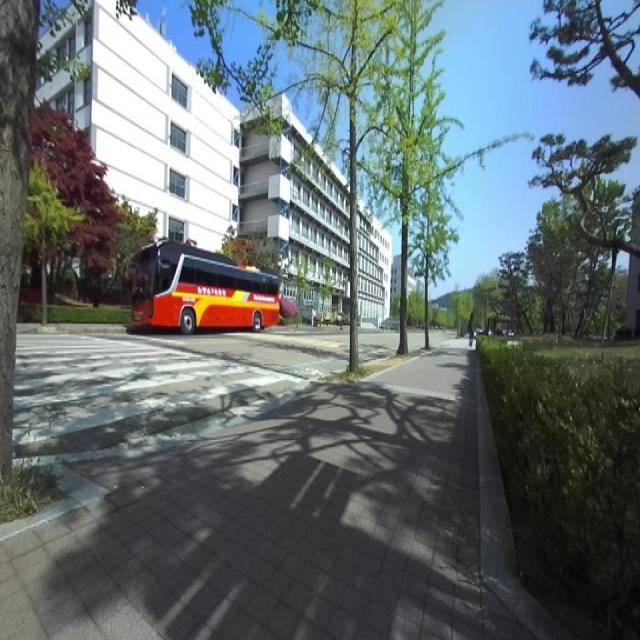sidewalk: (0, 339, 532, 639)
